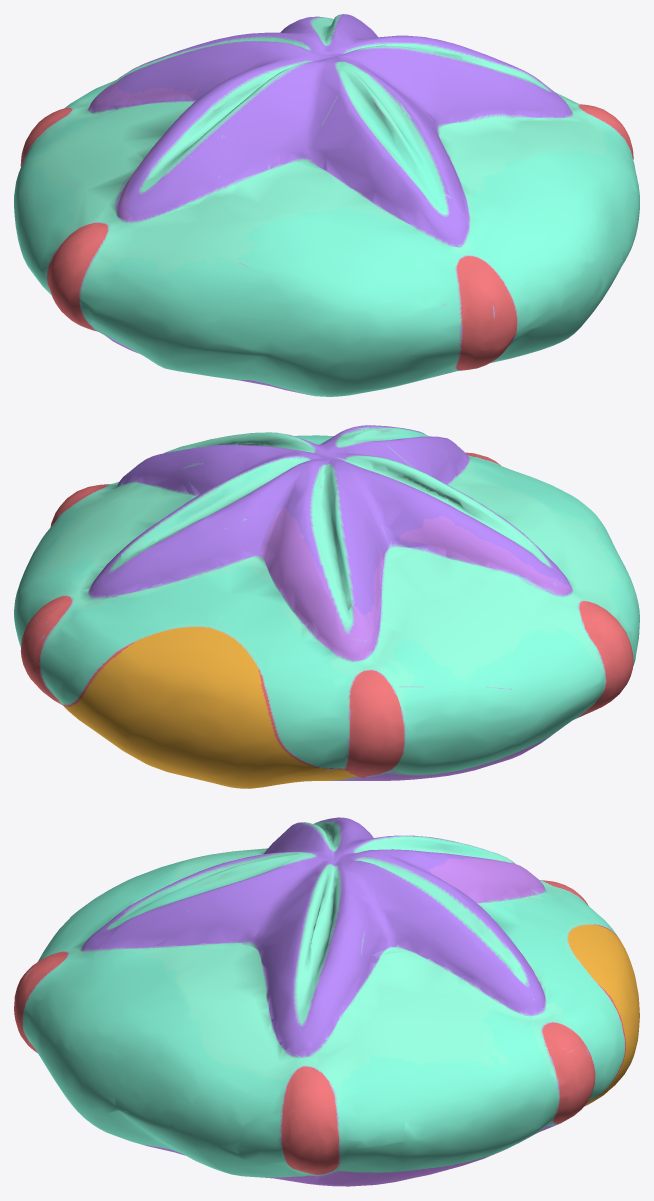
File: sanddollar.glb
3 renders of one model, top to bottom at view 1: azimuth 30°, elevation 25°; view 2: azimuth 150°, elevation 25°; view 3: azimuth 270°, elevation 25°, orthographic. The views are drawn at different scales.
Visible parts, largest first — view 1: Mesh_0; view 2: Mesh_0; view 3: Mesh_0.
Boxes of the visible parts, x1,y1,x2,y2 form: Mesh_0: [14, 14, 639, 396]; Mesh_0: [14, 425, 639, 788]; Mesh_0: [14, 817, 639, 1186].
Bounding box in the file's own units: 1.9 × 0.8621 × 1.85.
Materials: 1 (1 with a texture image).
